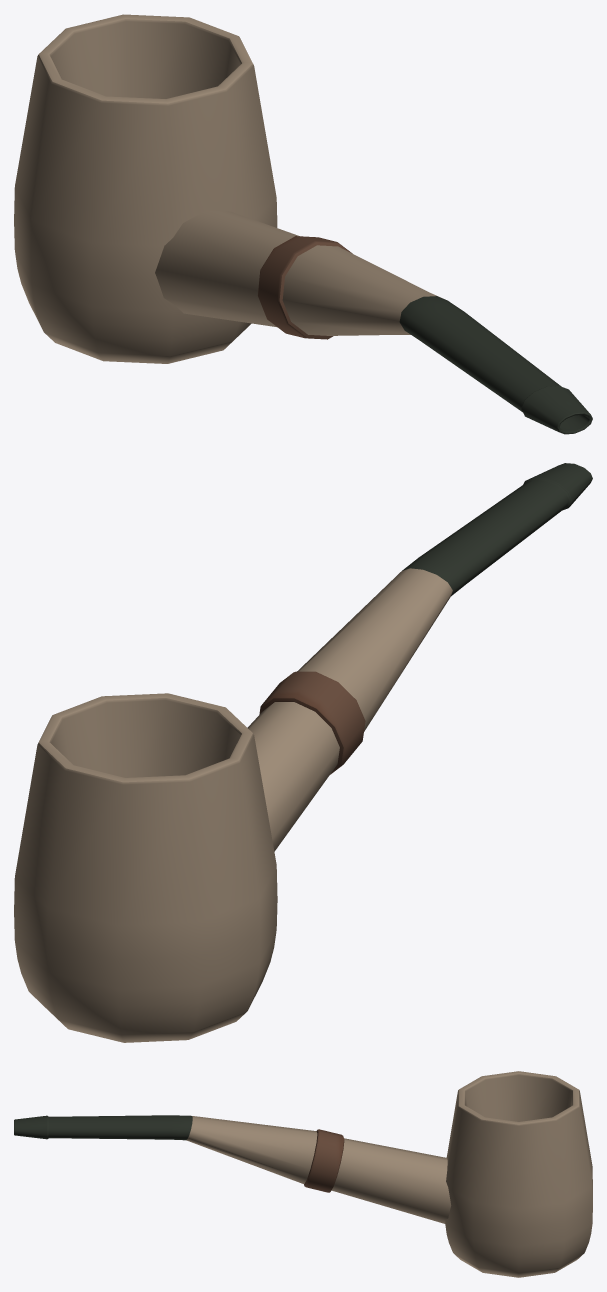
Rendered from pipa.fbx.
The picture shows the model from 3 angles, top to bottom: view 1: azimuth 30°, elevation 25°; view 2: azimuth 150°, elevation 25°; view 3: azimuth 270°, elevation 25°; orthographic projection. The views are drawn at different scales.
Parts seen in each view (by area): view 1: pipa_GGJ_2020:pipa_GGJ_2020:pCylinder3; view 2: pipa_GGJ_2020:pipa_GGJ_2020:pCylinder3; view 3: pipa_GGJ_2020:pipa_GGJ_2020:pCylinder3.
Boxes of the visible parts, x1,y1,x2,y2 form: pipa_GGJ_2020:pipa_GGJ_2020:pCylinder3: (14, 14, 592, 434); pipa_GGJ_2020:pipa_GGJ_2020:pCylinder3: (14, 463, 592, 1042); pipa_GGJ_2020:pipa_GGJ_2020:pCylinder3: (14, 1071, 592, 1277).
Bounding box in the file's own units: 1.77 × 1.94 × 6.59.
